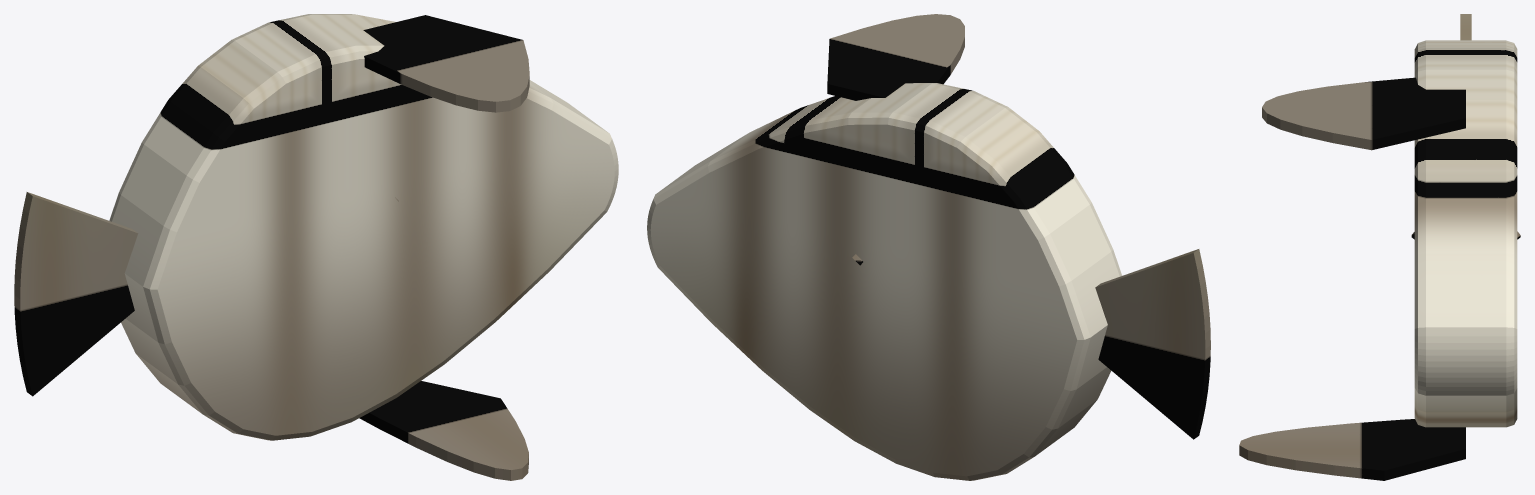
Rendered from fish-angelfish-school.glb.
3 renders of one model, left to right at view 1: azimuth 30°, elevation 25°; view 2: azimuth 150°, elevation 25°; view 3: azimuth 270°, elevation 25°, orthographic. The views are drawn at different scales.
Bounding box in the file's own units: 1.57 × 0.9818 × 0.7012.
Materials: 1 (1 with a texture image).
